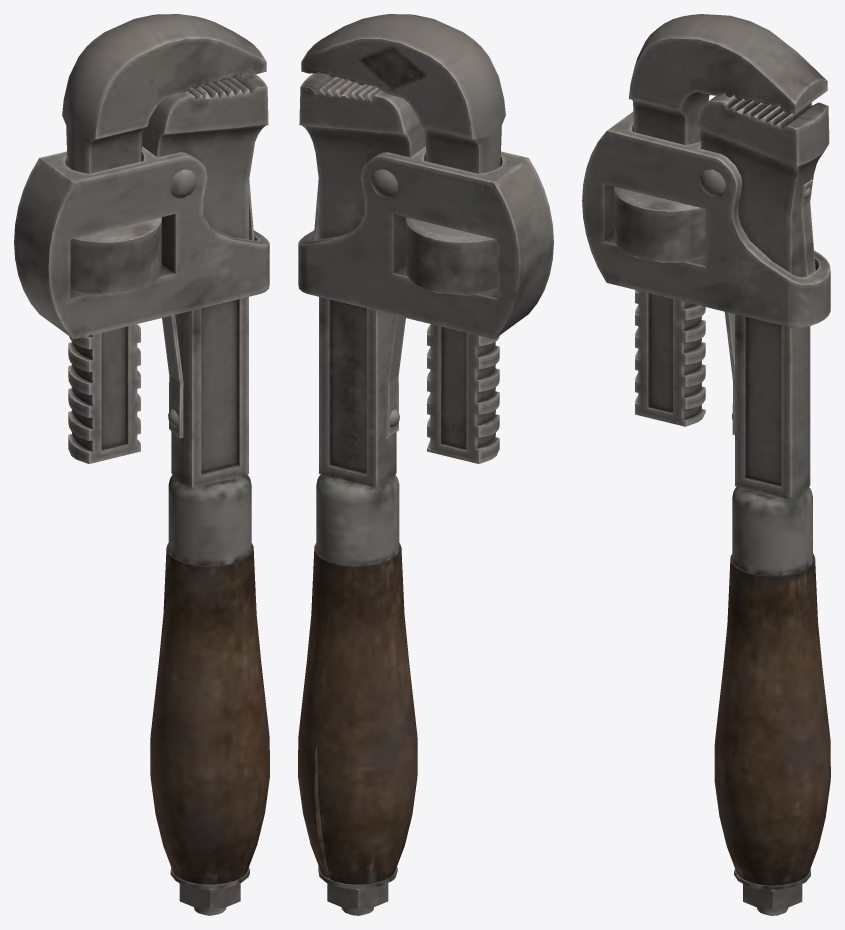
File: wrench-high.glb
3 views of the same model, side by side, from view 1: azimuth 30°, elevation 25°; view 2: azimuth 150°, elevation 25°; view 3: azimuth 330°, elevation 25° (orthographic). The views are drawn at different scales.
Parts seen in each view (by area): view 1: adjustable_wrench_jaw; view 2: adjustable_wrench_jaw; view 3: adjustable_wrench_jaw.
Boxes of the visible parts, <box> form: adjustable_wrench_jaw: <box>14,14,269,915</box>; adjustable_wrench_jaw: <box>298,14,553,915</box>; adjustable_wrench_jaw: <box>582,14,830,915</box>.
Size of the model in its own units: 0.0683 by 0.2541 by 0.0306.
Materials: 1 (1 with a texture image).
